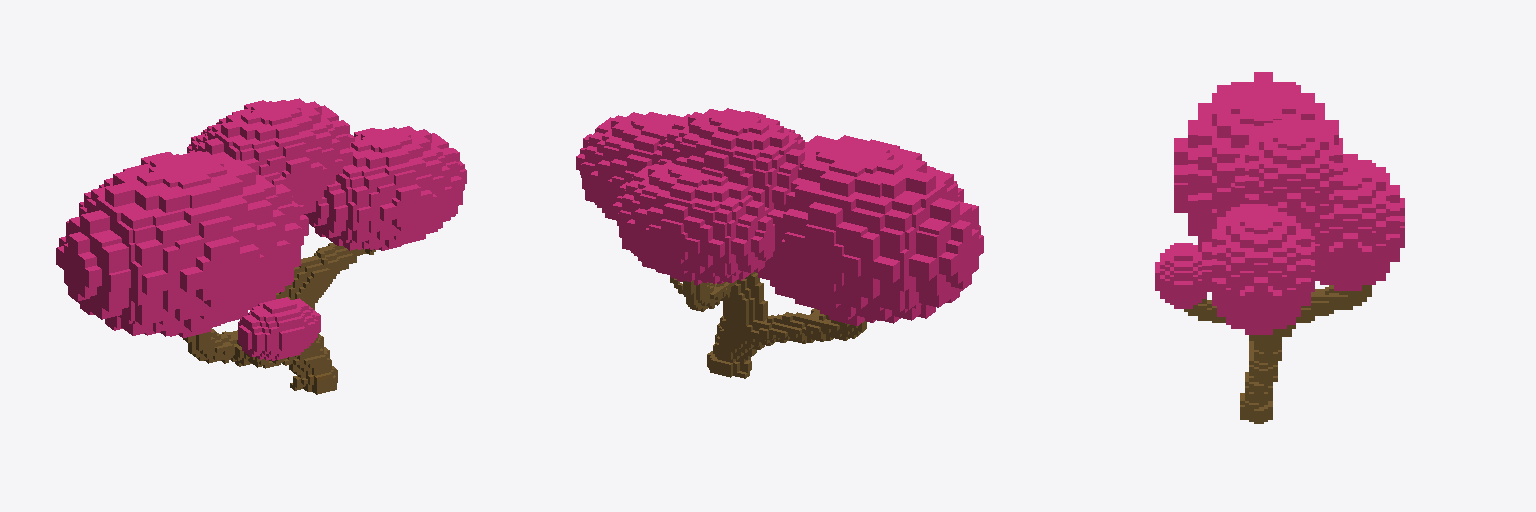
3 renders of one model, left to right at view 1: azimuth 30°, elevation 25°; view 2: azimuth 150°, elevation 25°; view 3: azimuth 270°, elevation 25°, orthographic.
Parts seen in each view (by area): view 1: ObjObject.001; view 2: ObjObject.001; view 3: ObjObject.001.
Boxes of the visible parts, box(x1,y1,x2,y2) form: ObjObject.001: box(56, 98, 466, 394); ObjObject.001: box(576, 108, 983, 378); ObjObject.001: box(1155, 72, 1404, 423).
Bounding box in the file's own units: 9.4 × 6.3 × 5.3.
Materials: 1 (1 with a texture image).